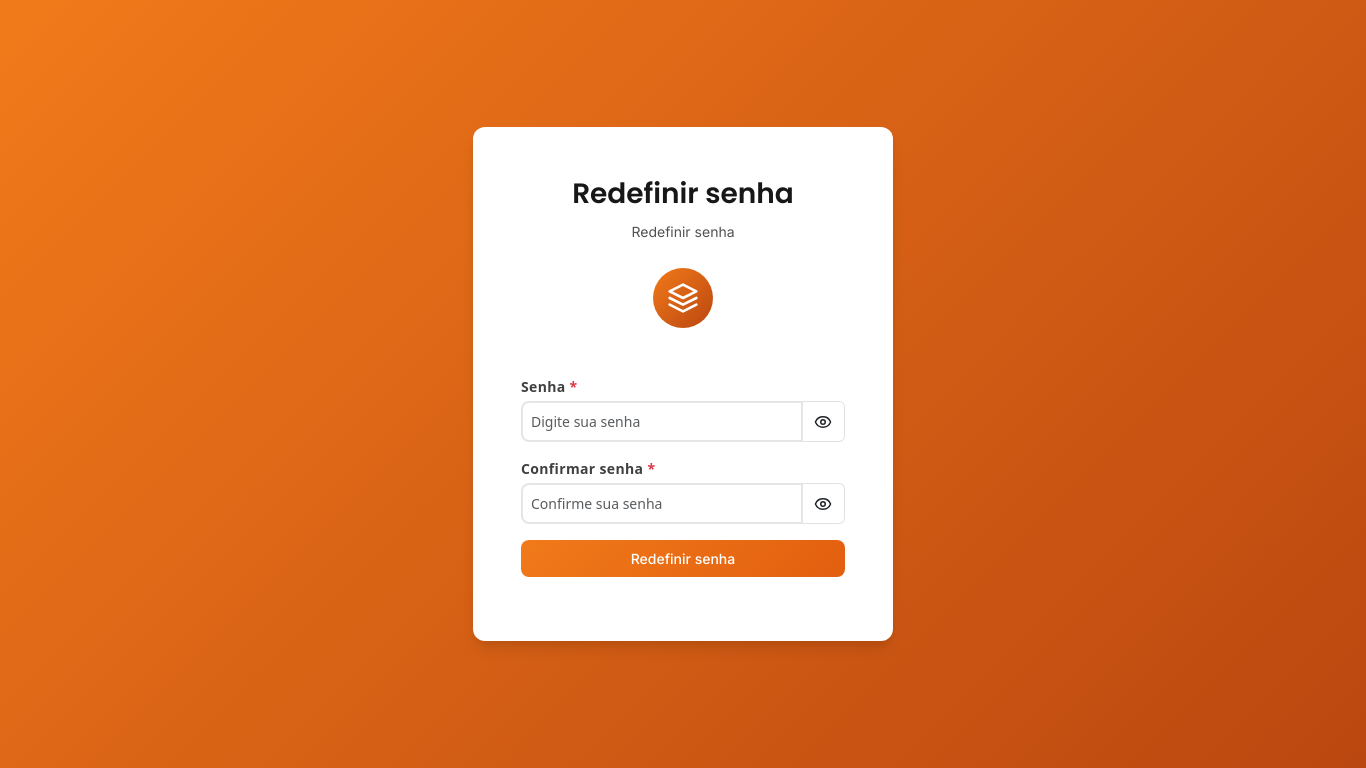
Test: ResetPassword › should show success state when password reset succeeds
Expected: the password field with test id "confirmPassword" is shown, x1=521 y1=483 x2=803 y2=524
In the password field with test id "password": (662, 422) x1=521 y1=401 x2=803 y2=442, type "NewPassword123!"
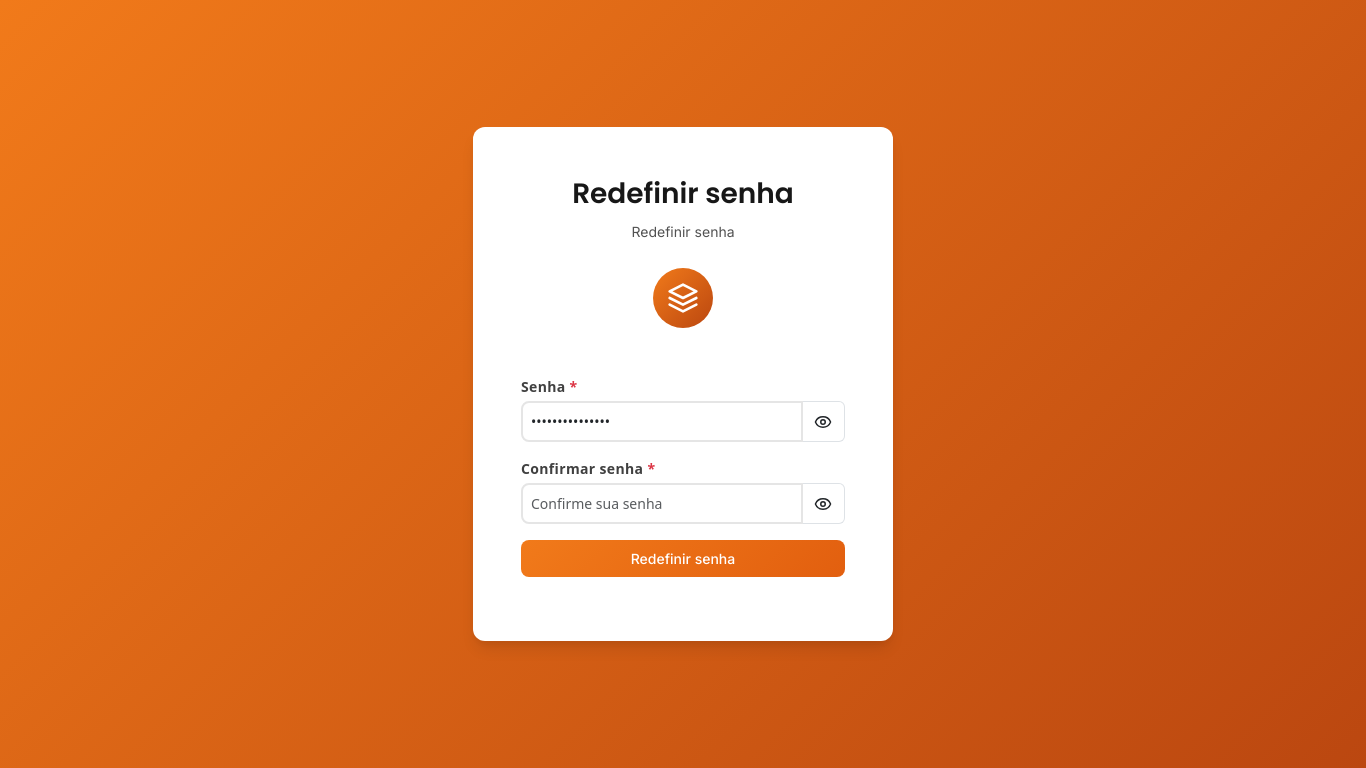
In the password field with test id "confirmPassword": (662, 504) x1=521 y1=483 x2=803 y2=524, type "NewPassword123!"
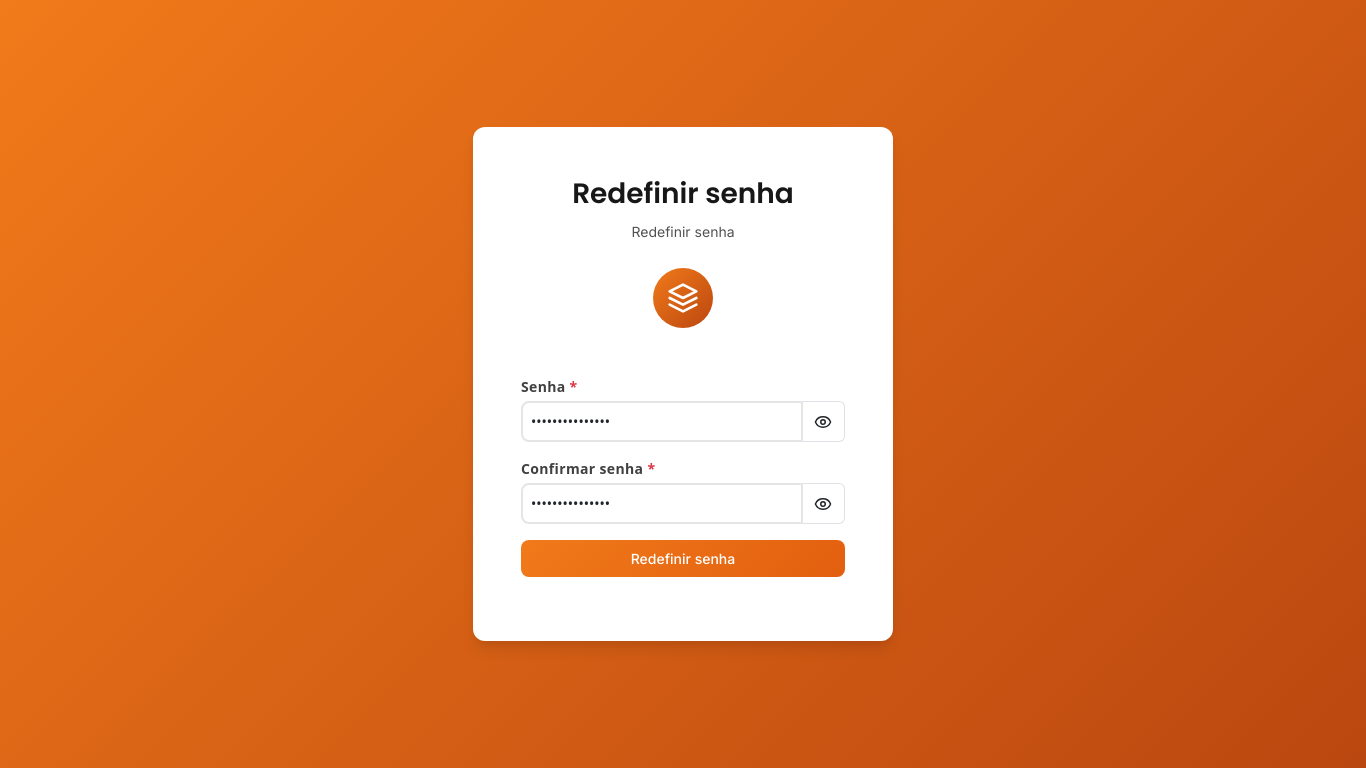
Click the button with test id "submit-button": click(683, 559) x1=521 y1=540 x2=845 y2=577
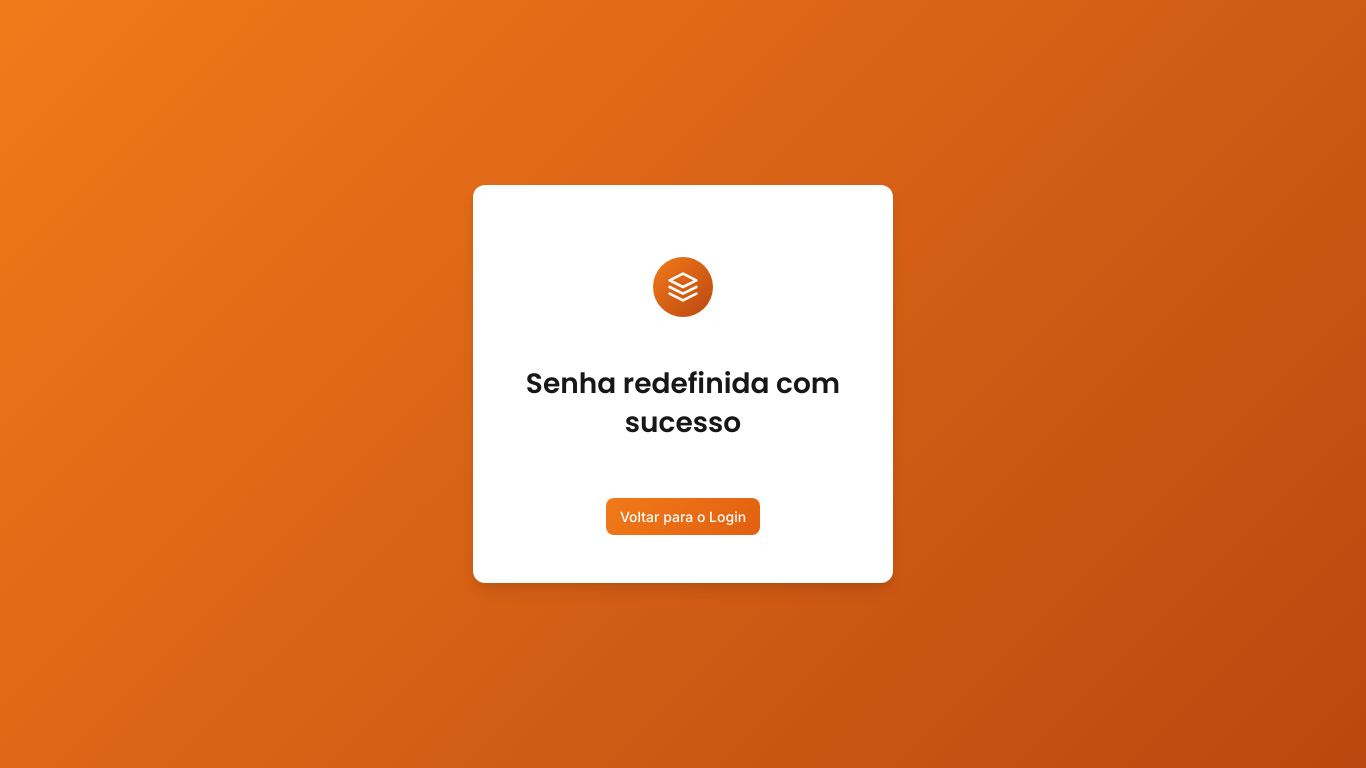
Now the heading "Senha redefinida com sucesso" is shown, box x1=521 y1=365 x2=845 y2=442
Now the link "Voltar para o Login" is shown, box x1=606 y1=498 x2=760 y2=535
